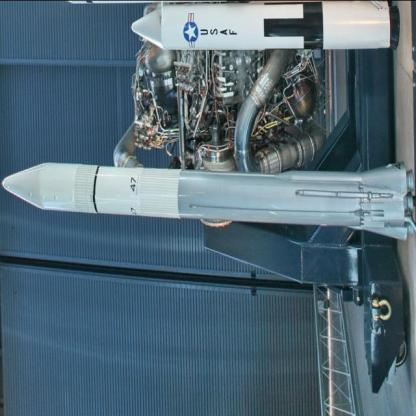MIL_TBM: (1, 158, 416, 240), (126, 1, 400, 57)
